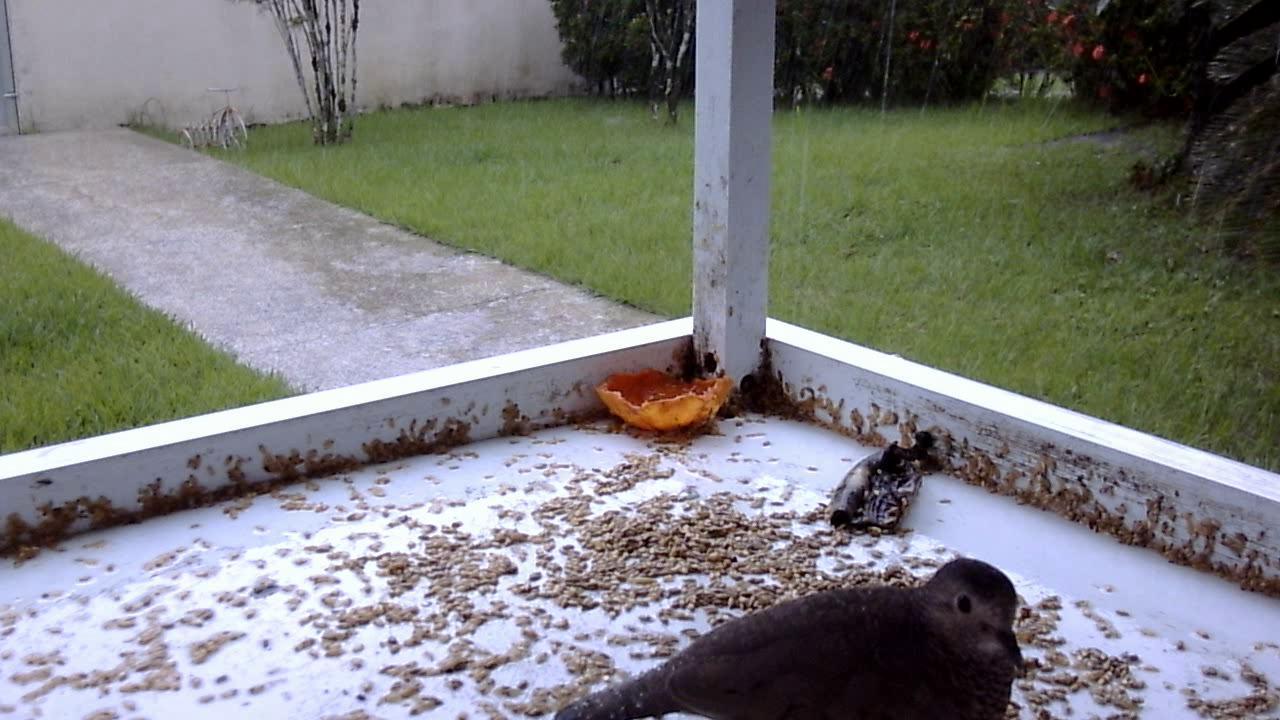rolinha: (540, 548, 1041, 720)
